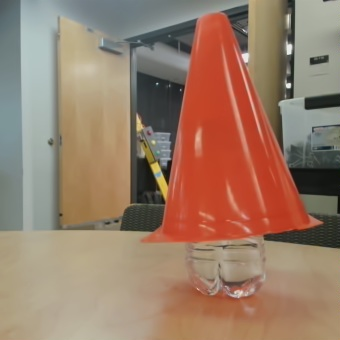Cone: (137, 18, 285, 242)
